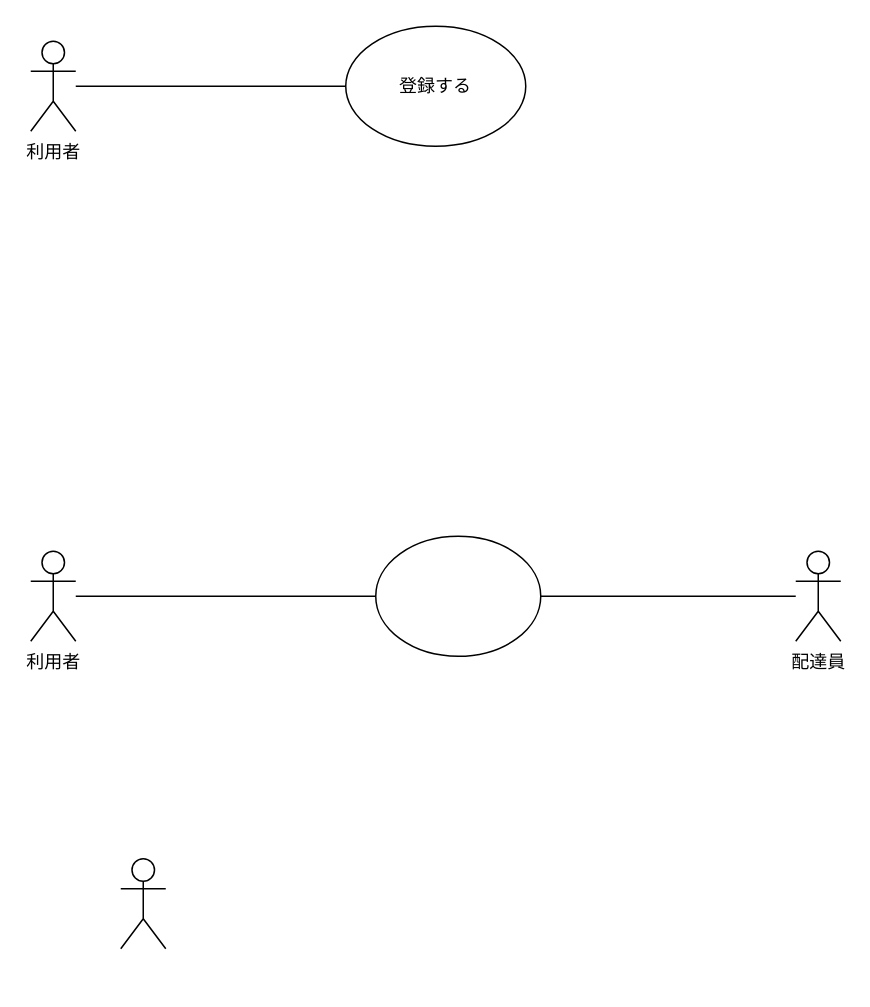
This 870x1007 diagram has some shape labels left out. Each missing label, with the centre of its shape:
Actor: [142,903]
配達の依頼をする: [457,595]
